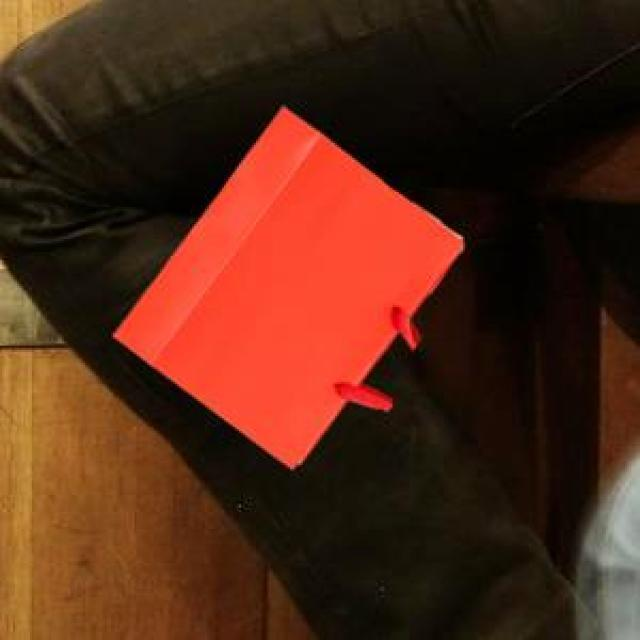Paper_Bag: (110, 104, 460, 466)
